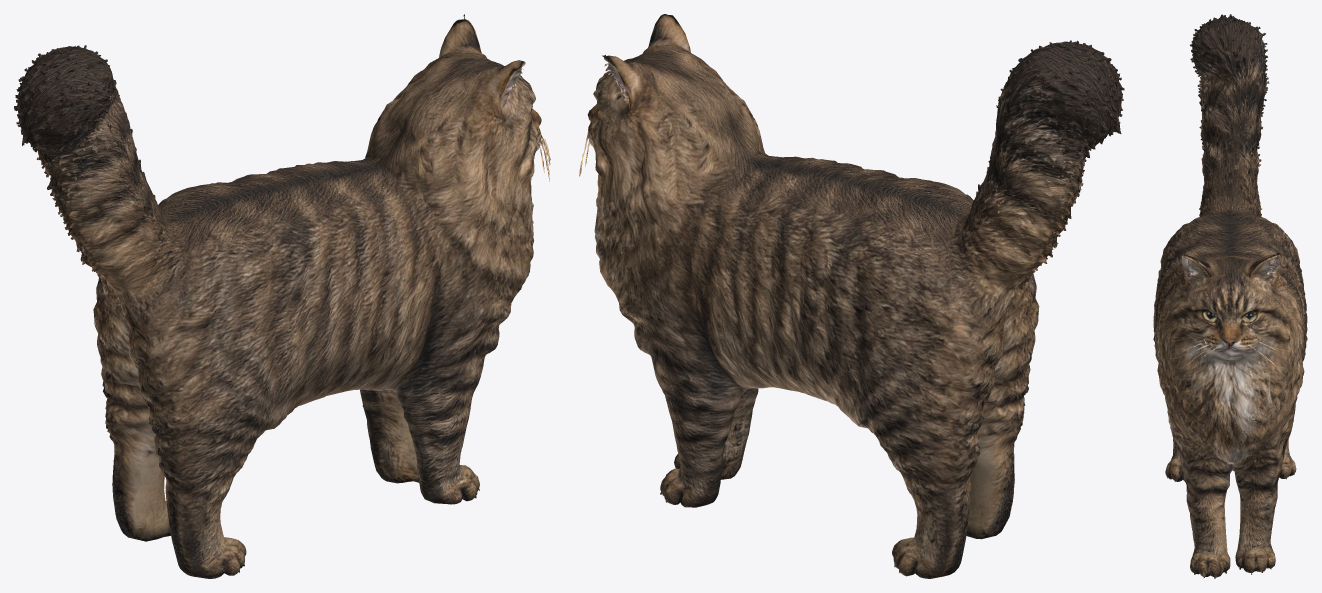
The model's file is YAMANEKO.glb.
The picture shows the model from 3 angles, left to right: view 1: azimuth 30°, elevation 25°; view 2: azimuth 150°, elevation 25°; view 3: azimuth 270°, elevation 25°; orthographic projection. The views are drawn at different scales.
Parts seen in each view (by area): view 1: tripo_node_51bf2ed2-484a-4da8-aa09-3a2d94135ec0; view 2: tripo_node_51bf2ed2-484a-4da8-aa09-3a2d94135ec0; view 3: tripo_node_51bf2ed2-484a-4da8-aa09-3a2d94135ec0.
Boxes of the visible parts, bbox=[...] form: tripo_node_51bf2ed2-484a-4da8-aa09-3a2d94135ec0: bbox=[14, 14, 550, 578]; tripo_node_51bf2ed2-484a-4da8-aa09-3a2d94135ec0: bbox=[579, 14, 1124, 578]; tripo_node_51bf2ed2-484a-4da8-aa09-3a2d94135ec0: bbox=[1153, 14, 1307, 578].
Size of the model in its own units: 1.03 by 0.9999 by 0.3378.
Materials: 1 (1 with a texture image).
